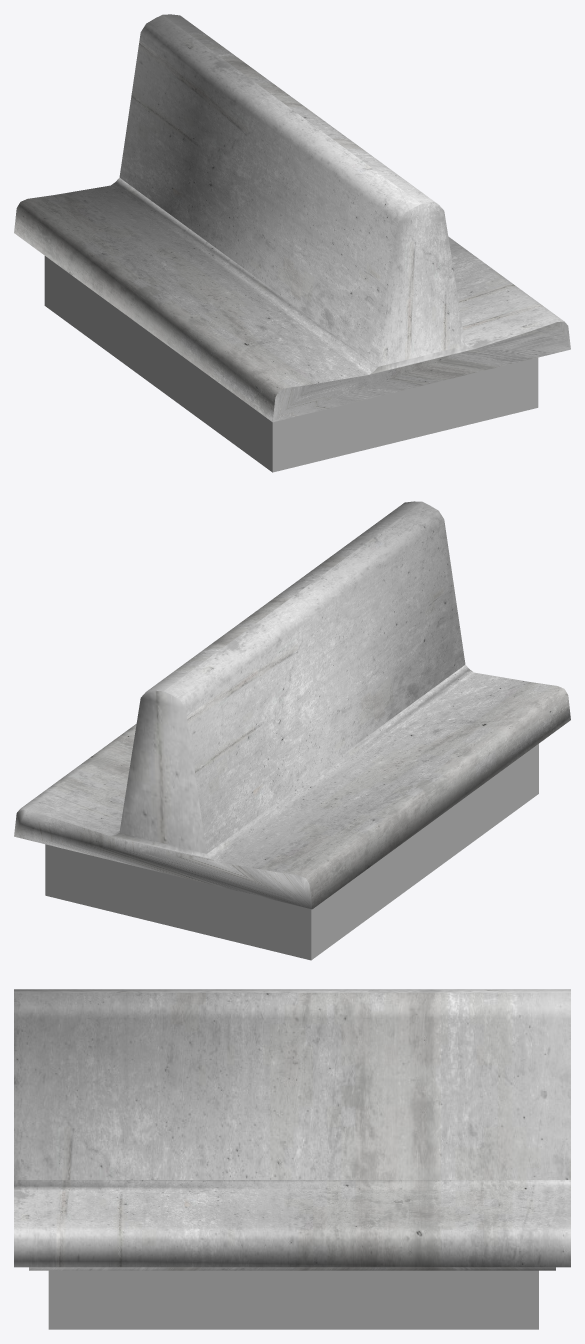
The model's file is asiendo de concreto.dae.
3 renders of one model, top to bottom at view 1: azimuth 30°, elevation 25°; view 2: azimuth 150°, elevation 25°; view 3: azimuth 270°, elevation 25°, orthographic. The views are drawn at different scales.
Visible parts, largest first — view 1: Plane, Cube; view 2: Plane, Cube; view 3: Plane, Cube.
Part boxes in pixels (x1,y1,x2,y2): Plane: (14,14,570,422); Cube: (44,256,538,472); Plane: (14,501,570,909); Cube: (45,744,538,960); Plane: (14,989,570,1270); Cube: (48,1270,538,1329).
Size of the model in its own units: 3.76 by 5.64 by 2.98.
